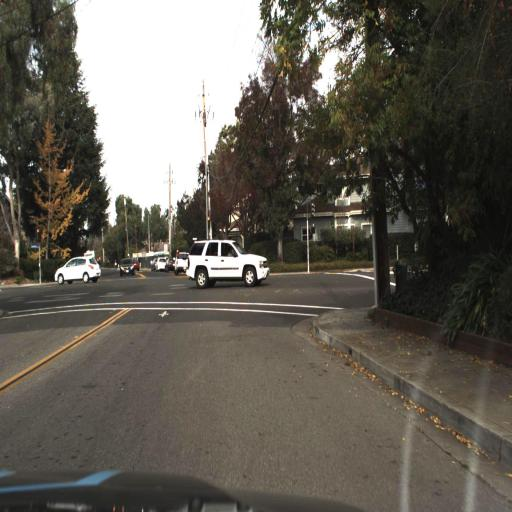car: (185, 234, 269, 290), (51, 253, 105, 285), (171, 251, 192, 278), (118, 255, 138, 277)
trafficLight-Red: (206, 205, 216, 234), (204, 212, 212, 235)
